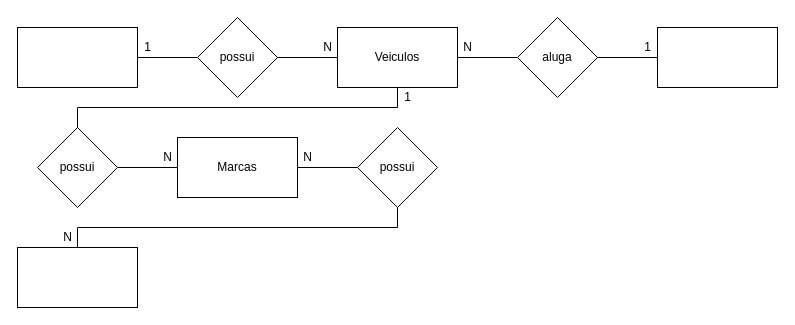
This 795x325 diagram has some shape labels left out. Each missing label, with the box of its shape:
Clientes: (656, 26, 778, 88)
Empresas: (16, 26, 138, 88)
Modelos: (16, 246, 138, 308)
